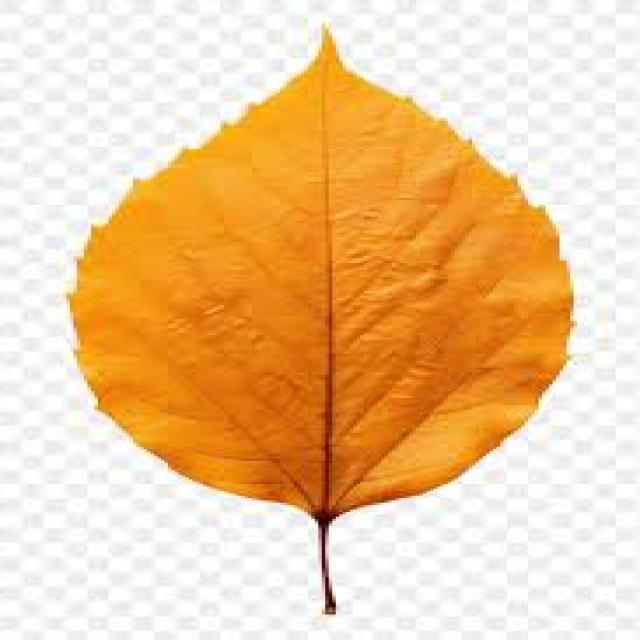leaf: (66, 21, 575, 613)
